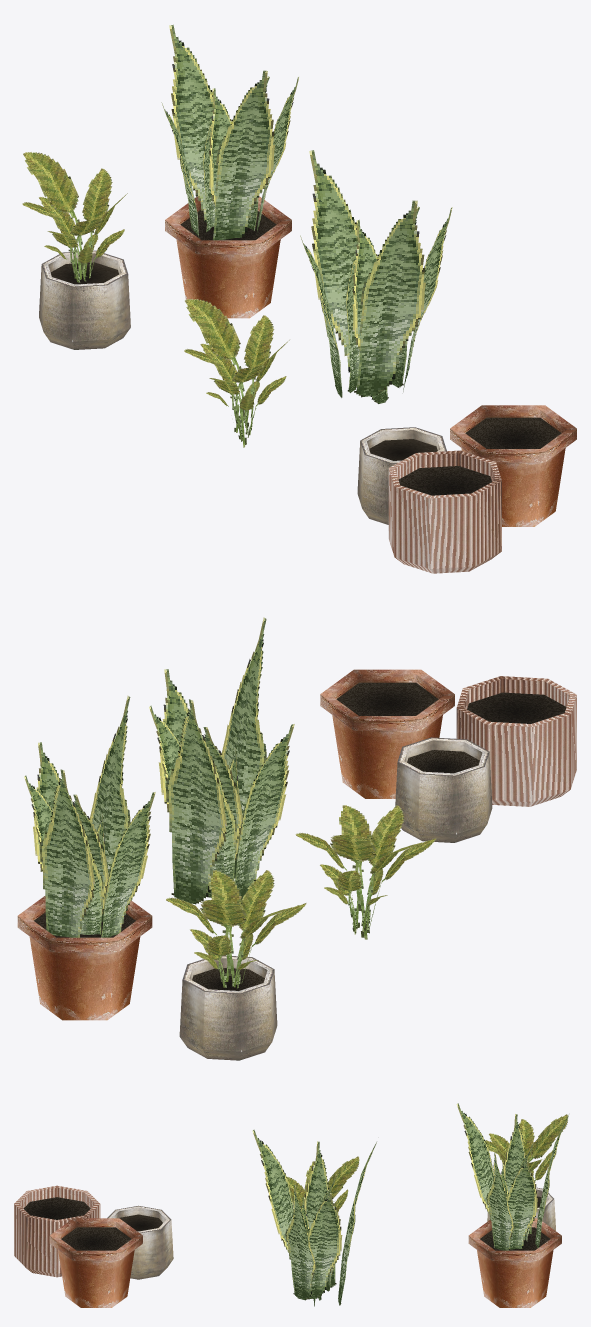
File: psx_style_house_plants.glb
3 renders of one model, top to bottom at view 1: azimuth 30°, elevation 25°; view 2: azimuth 150°, elevation 25°; view 3: azimuth 270°, elevation 25°, orthographic. The views are drawn at different scales.
Parts seen in each view (by area): view 1: sanseveria, sanseveria.001, pot2, pot, pot.001, pot3.001, calathea, calathea.001, pot3; view 2: sanseveria, sanseveria.001, pot2, pot, pot.001, pot3, pot3.001, calathea, calathea.001; view 3: sanseveria, sanseveria.001, pot, pot.001, pot2, pot3, calathea.001, calathea, pot3.001.
Boxes of the visible parts, bbox=[...] form: sanseveria: bbox=[300, 150, 452, 403]; sanseveria.001: bbox=[161, 24, 298, 240]; pot2: bbox=[388, 450, 501, 573]; pot: bbox=[450, 405, 576, 526]; pot.001: bbox=[165, 196, 291, 318]; pot3.001: bbox=[39, 250, 130, 349]; calathea: bbox=[184, 298, 289, 447]; calathea.001: bbox=[22, 152, 127, 282]; pot3: bbox=[357, 427, 446, 524]; sanseveria: bbox=[149, 617, 294, 904]; sanseveria.001: bbox=[24, 695, 155, 937]; pot2: bbox=[456, 676, 576, 806]; pot: bbox=[320, 669, 454, 798]; pot.001: bbox=[17, 896, 152, 1020]; pot3: bbox=[395, 737, 492, 842]; pot3.001: bbox=[179, 955, 277, 1060]; calathea: bbox=[295, 805, 436, 939]; calathea.001: bbox=[166, 870, 306, 988]; sanseveria: bbox=[252, 1129, 376, 1306]; sanseveria.001: bbox=[456, 1103, 568, 1250]; pot: bbox=[49, 1218, 142, 1307]; pot.001: bbox=[468, 1218, 561, 1307]; pot2: bbox=[14, 1185, 100, 1277]; pot3: bbox=[107, 1205, 173, 1279]; calathea.001: bbox=[485, 1114, 567, 1189]; calathea: bbox=[266, 1156, 359, 1211]; pot3.001: bbox=[487, 1187, 555, 1230].
Size of the model in its own units: 126 by 114 by 286.
3 materials, 3 textured.
